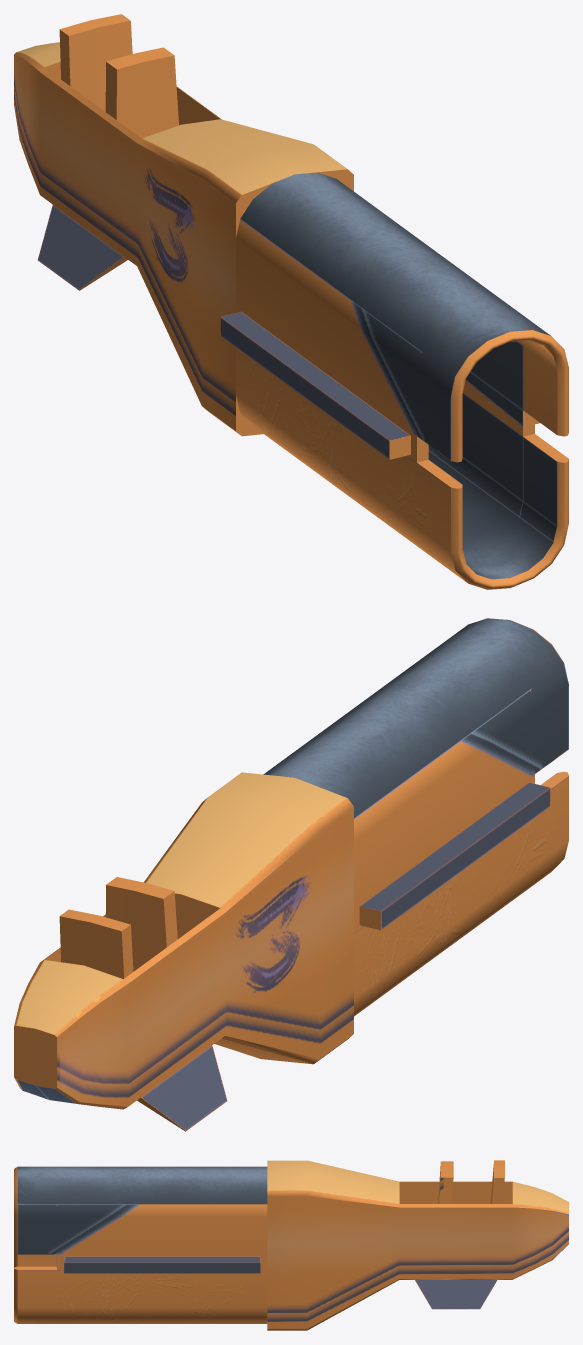
Rendered from Race car 3.fbx.
3 views of the same model, one above another, from view 1: azimuth 30°, elevation 25°; view 2: azimuth 150°, elevation 25°; view 3: azimuth 270°, elevation 25° (orthographic). The views are drawn at different scales.
Parts seen in each view (by area): view 1: pCube18; view 2: pCube18; view 3: pCube18.
Part boxes in pixels (x1,y1,x2,y2): pCube18: (14, 14, 568, 589); pCube18: (14, 618, 568, 1131); pCube18: (14, 1160, 568, 1330).
Bounding box in the file's own units: 2.73 × 4.23 × 14.01.
